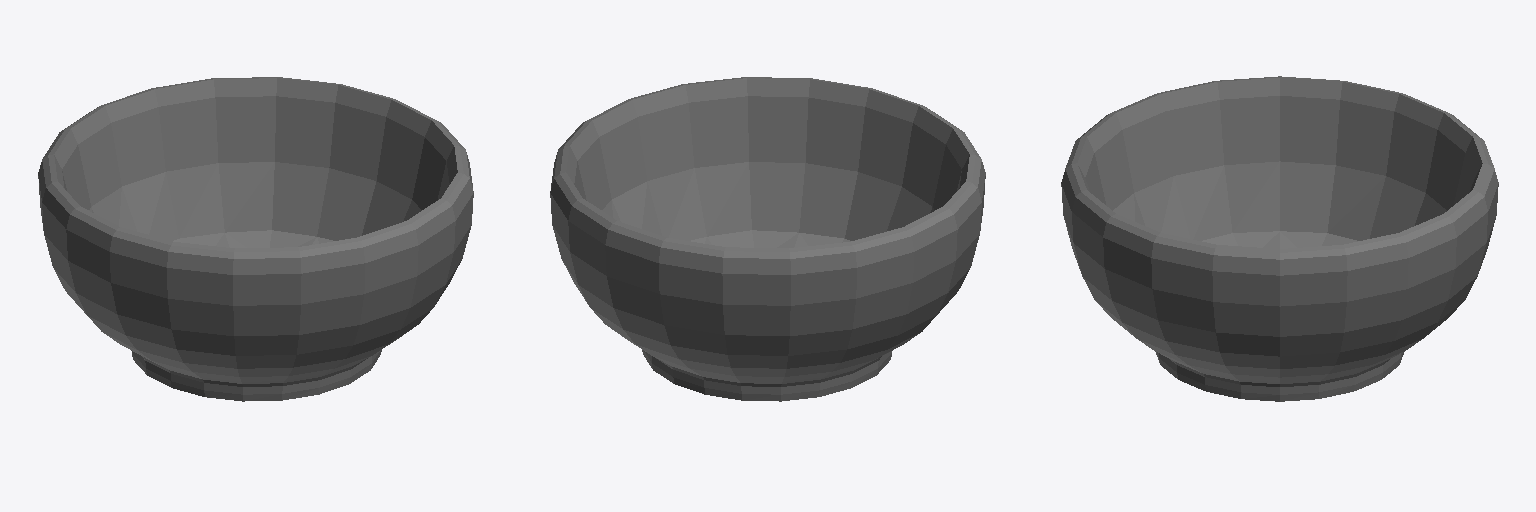
File: bowl.obj
3 views of the same model, side by side, from view 1: azimuth 30°, elevation 25°; view 2: azimuth 150°, elevation 25°; view 3: azimuth 270°, elevation 25° (orthographic).
Visible parts, largest first — view 1: pCylinder4; view 2: pCylinder4; view 3: pCylinder4.
Boxes of the visible parts, <box> form: pCylinder4: <box>38,77,473,401</box>; pCylinder4: <box>550,77,985,401</box>; pCylinder4: <box>1061,76,1498,401</box>.
Bounding box in the file's own units: 2.85 × 1.33 × 2.85.